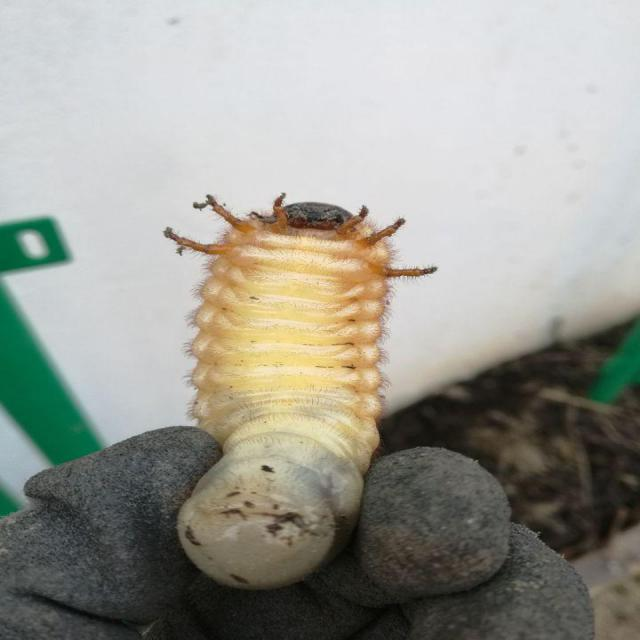Grub-Adult-: (157, 183, 435, 592)
